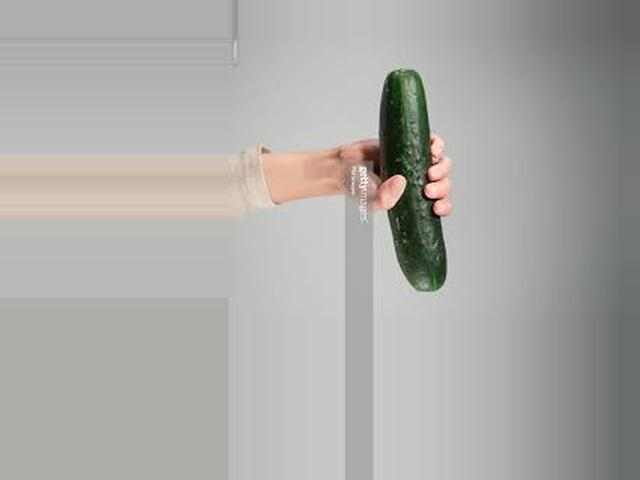cucumber: (378, 73, 446, 292)
